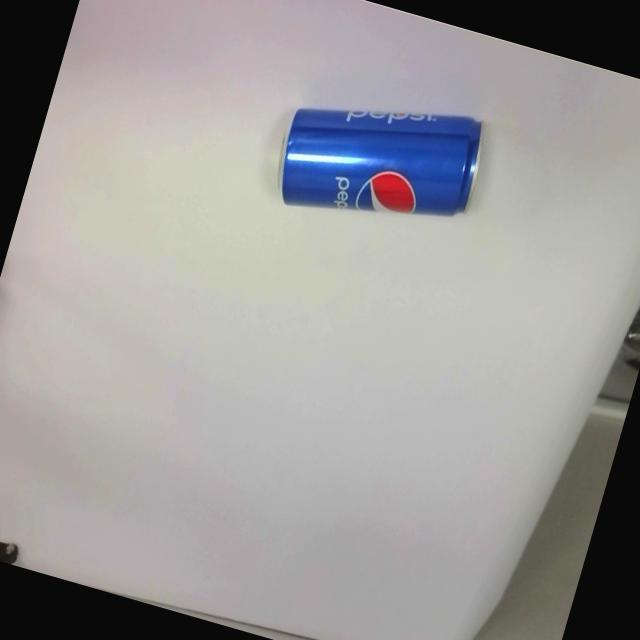debris: (268, 69, 491, 254)
